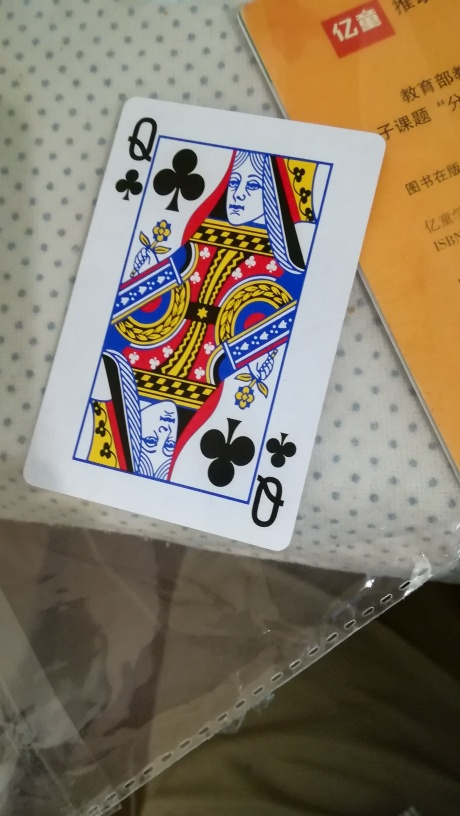mh q: (20, 94, 387, 552)
